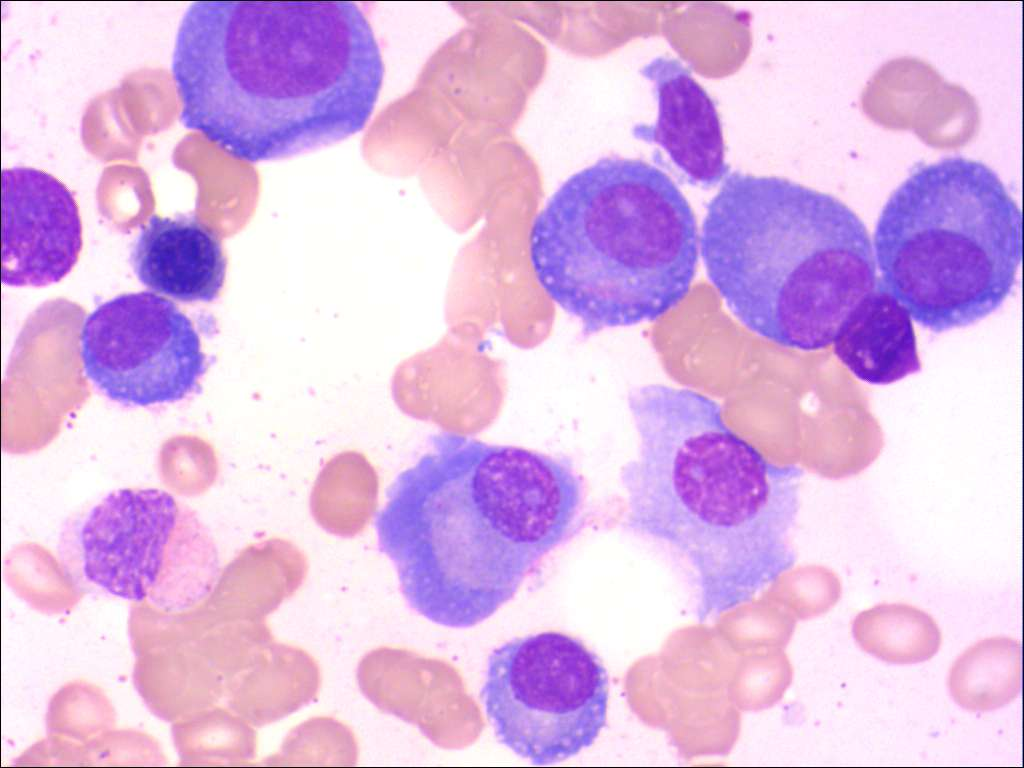24: (123, 207, 230, 306)
32: (631, 53, 731, 191)
4: (54, 482, 226, 616)
51: (614, 383, 810, 628), (367, 429, 593, 634), (168, 1, 387, 165), (698, 166, 881, 355), (528, 150, 704, 341), (872, 149, 1024, 337), (474, 629, 613, 768), (75, 289, 211, 410)
x: (1, 163, 85, 294), (831, 287, 924, 390)
